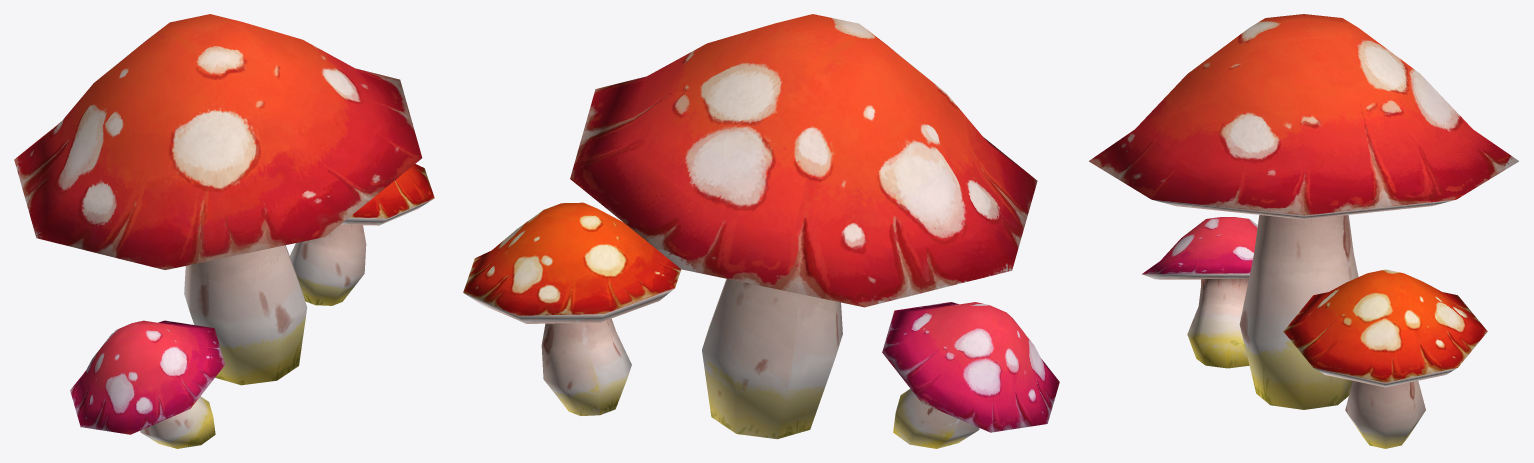
File: mushroom.fbx
3 views of the same model, side by side, from view 1: azimuth 30°, elevation 25°; view 2: azimuth 150°, elevation 25°; view 3: azimuth 270°, elevation 25° (orthographic). The views are drawn at different scales.
Visible parts, largest first — view 1: Cylinder; view 2: Cylinder; view 3: Cylinder.
Part boxes in pixels (box(x1,y1,x2,y2)): Cylinder: box(14, 14, 434, 448); Cylinder: box(463, 14, 1059, 448); Cylinder: box(1089, 14, 1518, 448).
Size of the model in its own units: 253 by 206 by 219.
